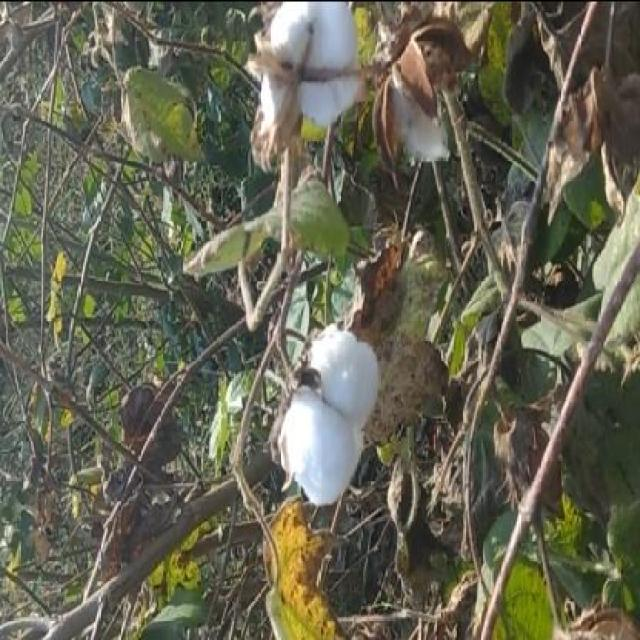cotton_ready: (252, 290, 400, 582)
